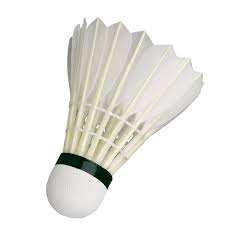shuttle: (63, 19, 206, 216)
